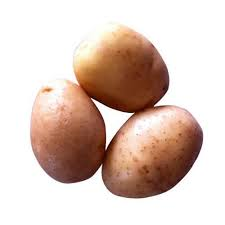potato: (66, 16, 177, 115), (105, 101, 209, 205), (26, 69, 100, 189)
